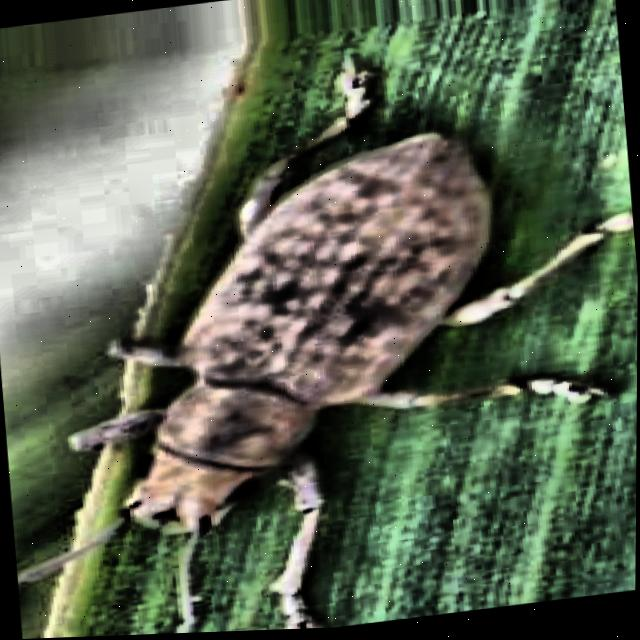Stink bug: (0, 53, 640, 640)
